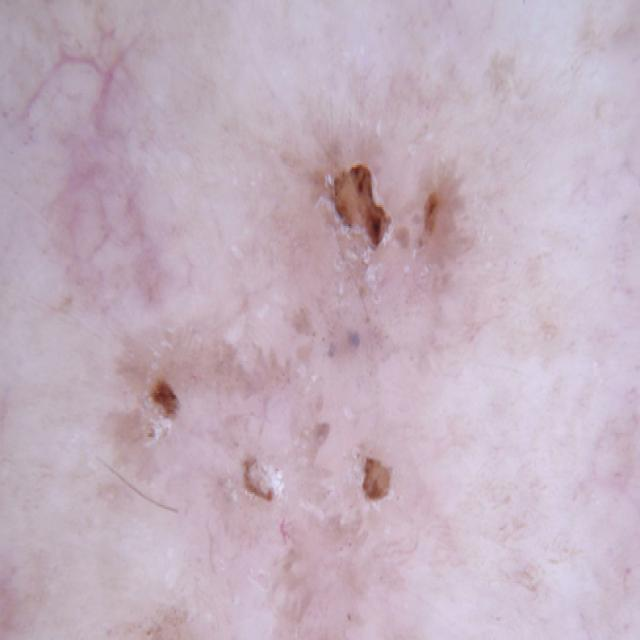Carcinoma: (89, 121, 540, 640)
